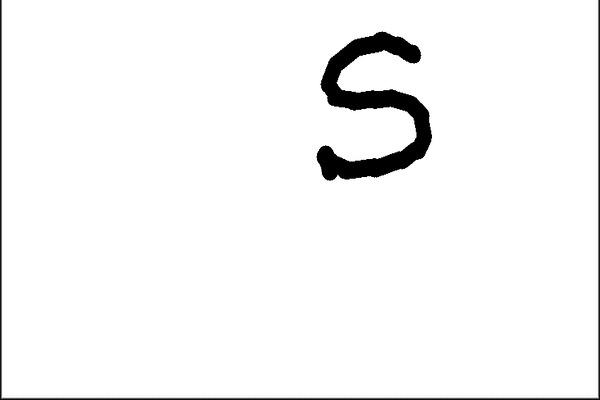S: (303, 20, 449, 191)
